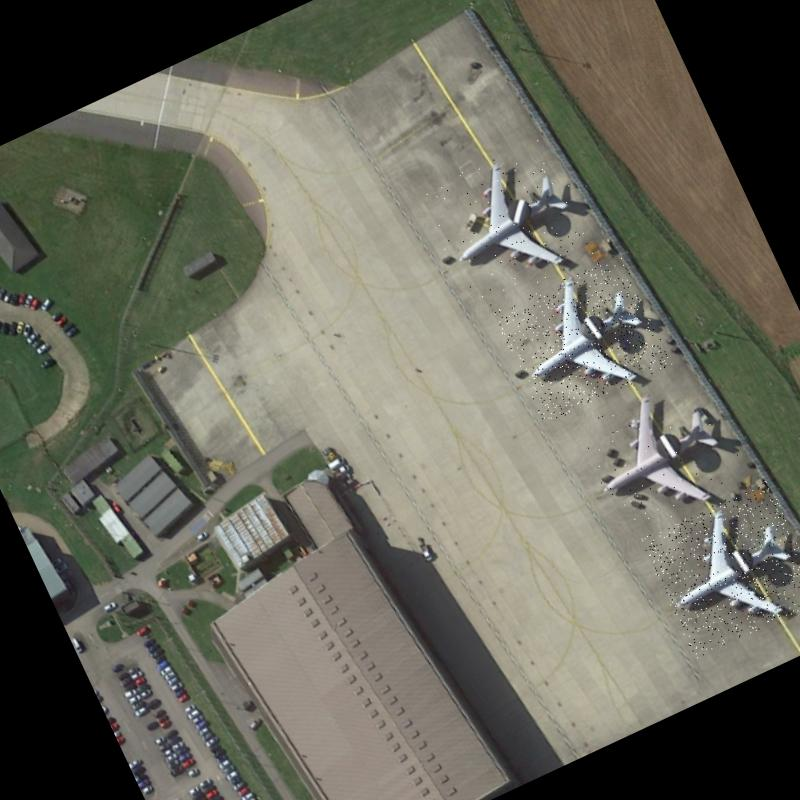A7: (568, 364, 753, 546), (418, 132, 602, 314), (492, 252, 672, 424), (639, 479, 800, 659)
